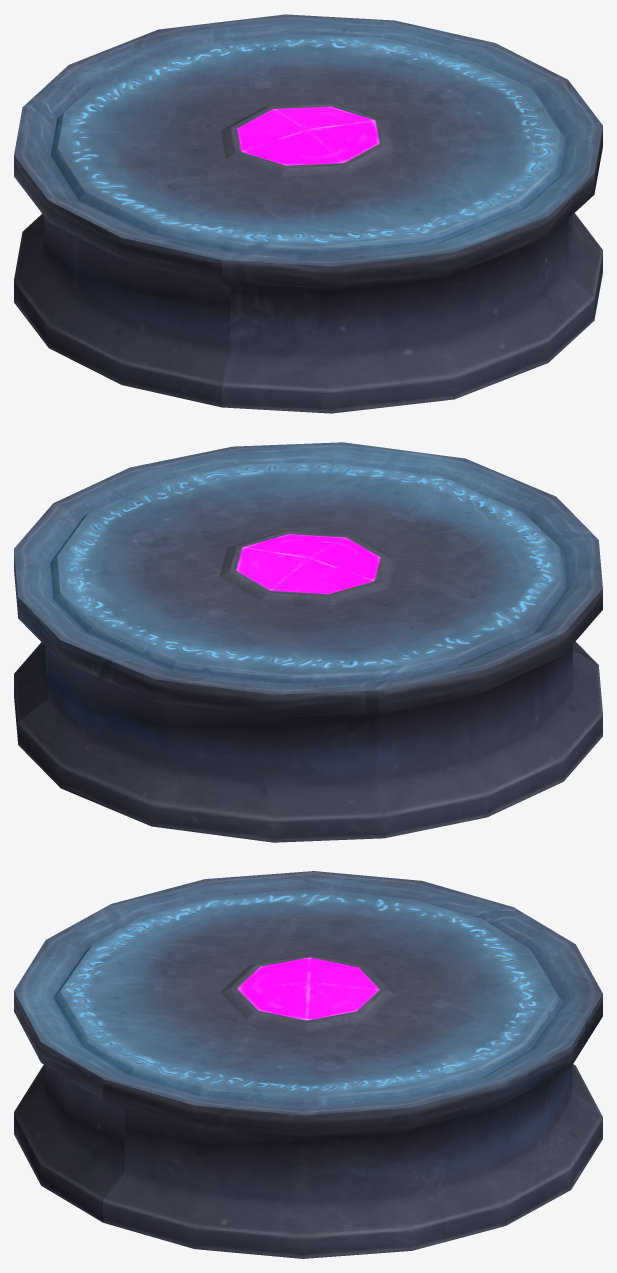
Rendered from platformMed.fbx.
3 views of the same model, one above another, from view 1: azimuth 30°, elevation 25°; view 2: azimuth 150°, elevation 25°; view 3: azimuth 270°, elevation 25° (orthographic). The views are drawn at different scales.
Parts seen in each view (by area): view 1: PlatformRound006; view 2: PlatformRound006; view 3: PlatformRound006.
Part boxes in pixels (x1,y1,x2,y2): PlatformRound006: (14, 14, 602, 413); PlatformRound006: (14, 442, 602, 842); PlatformRound006: (14, 871, 602, 1258).
Size of the model in its own units: 9.15 by 2.69 by 9.32.
